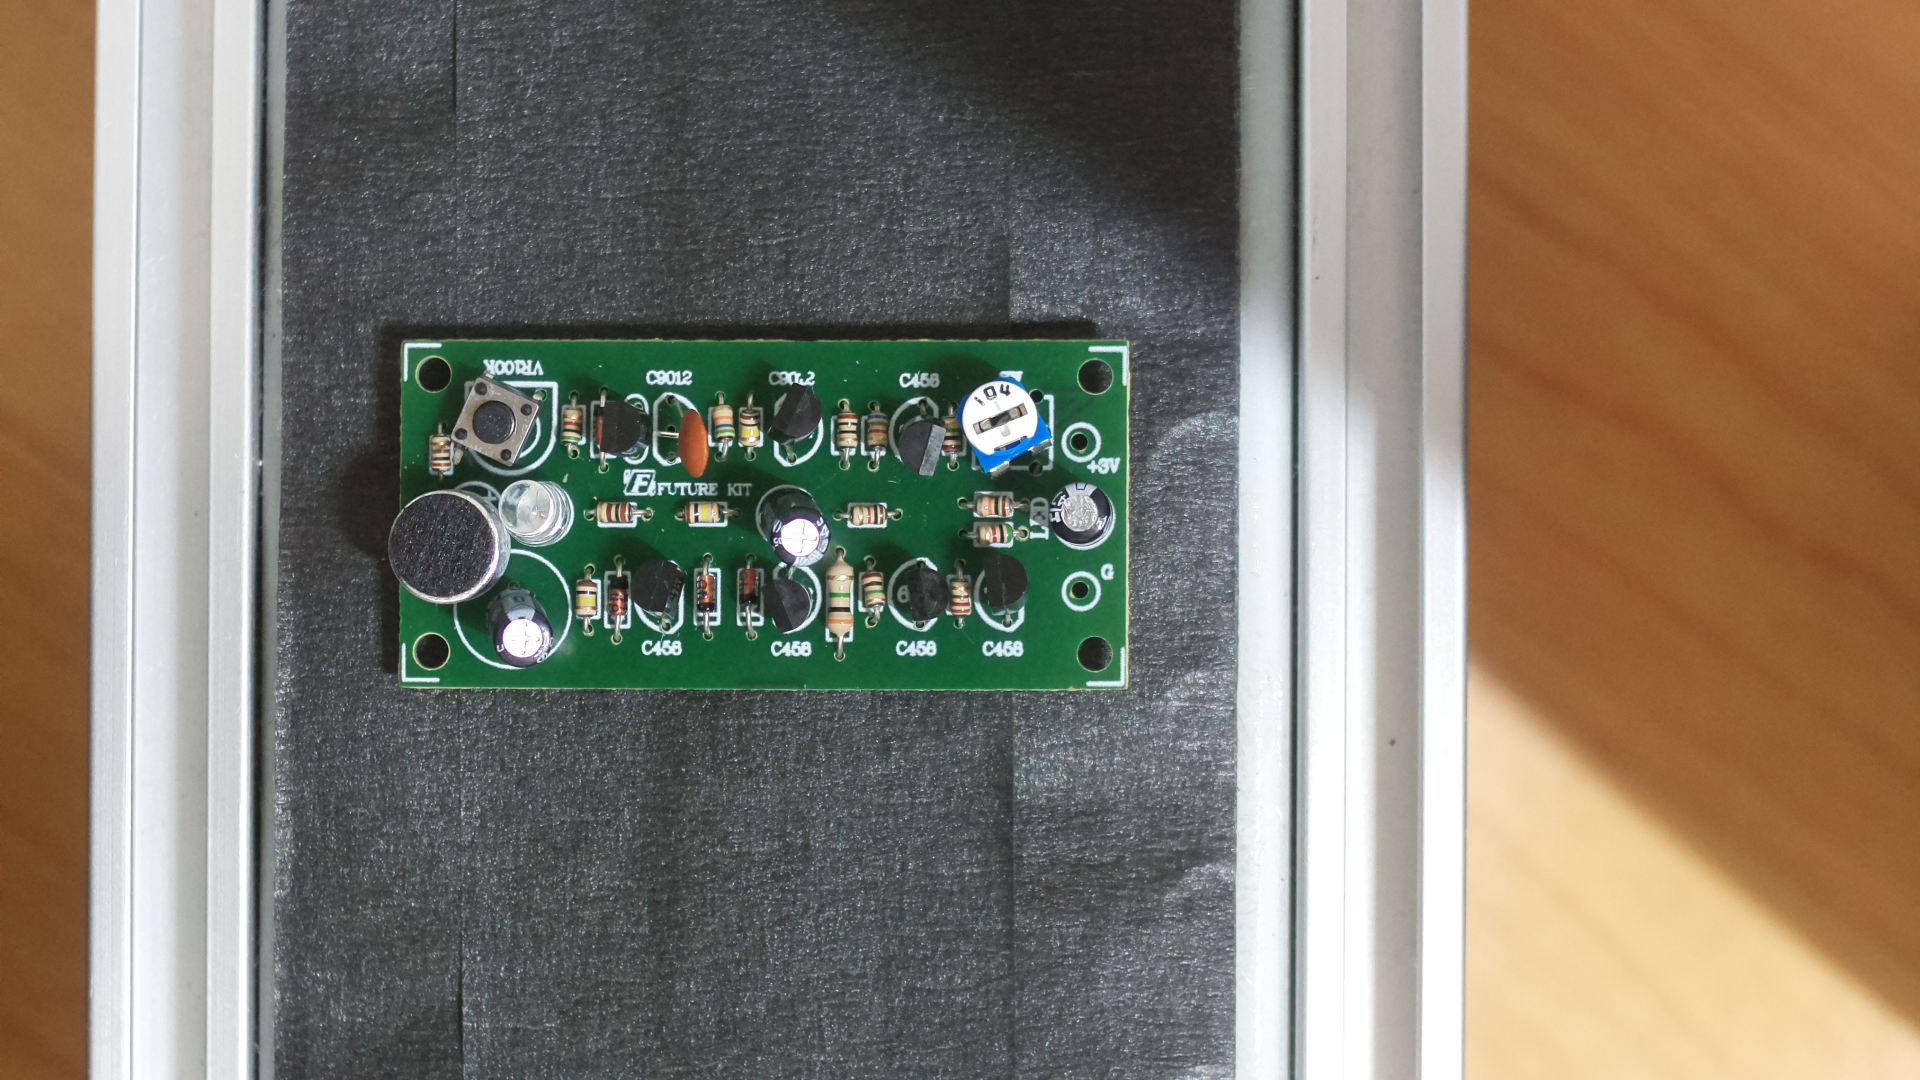A_Misordered: (392, 316, 1156, 723)
